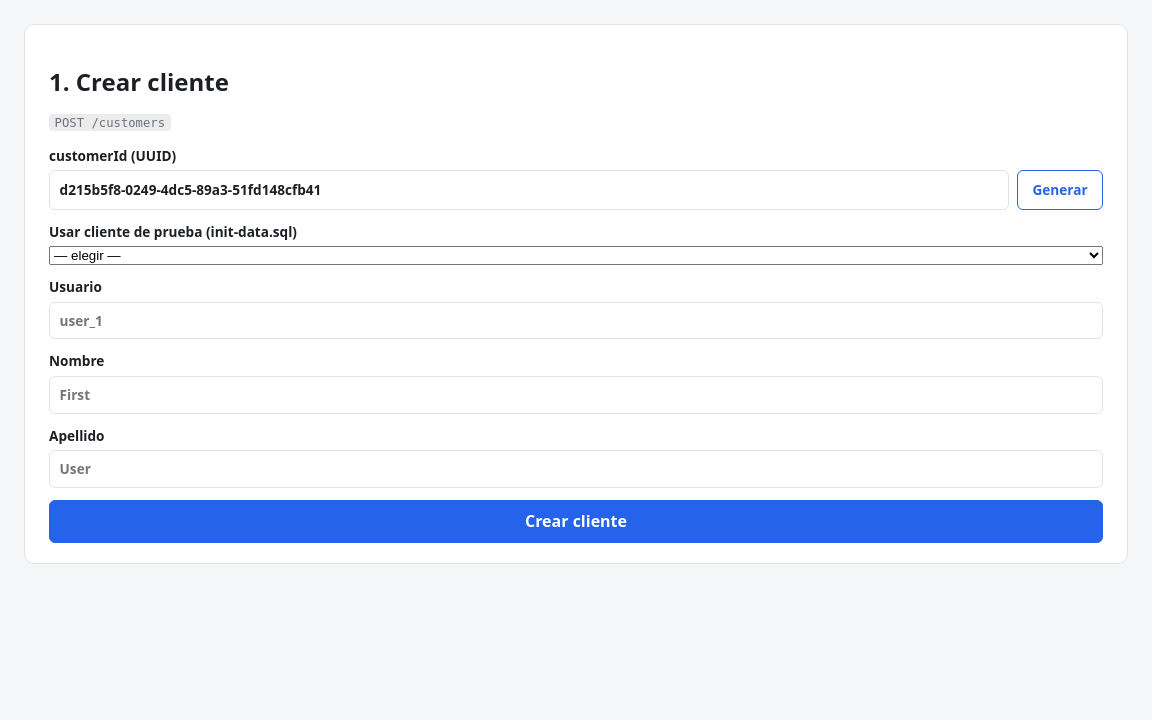
Test: CreateCustomerForm › the Generar button replaces customerId with a freshly generated UUID
The image size is (1152, 720).
Click the button "Generar".
click(1060, 190)  # box [1017,170,1103,210]
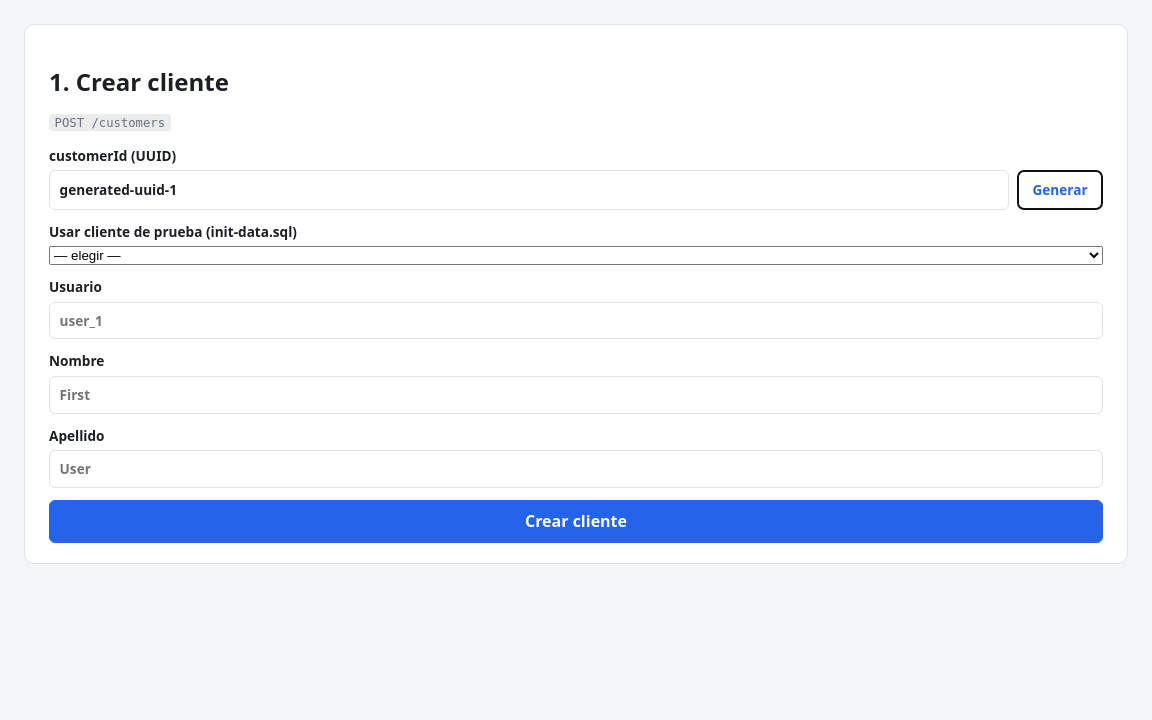
Result: the field labelled "customerId (UUID) Generar" holds "generated-uuid-1" at [49,170,1009,210]
